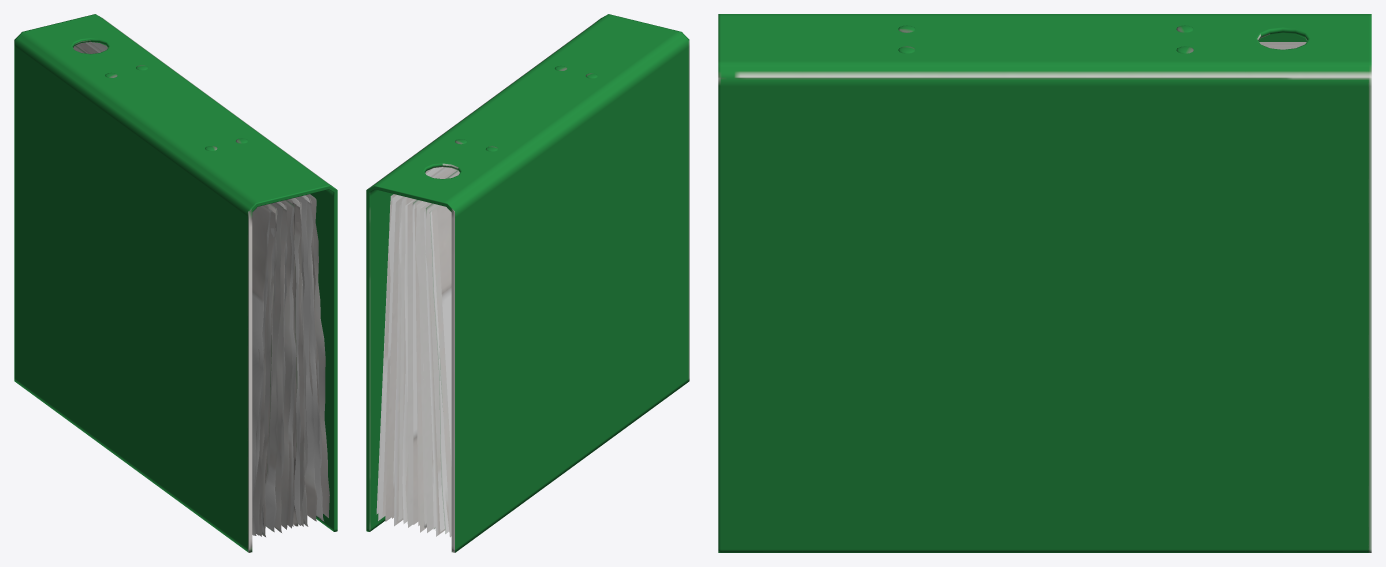
File: green_book.obj
The picture shows the model from 3 angles, left to right: view 1: azimuth 30°, elevation 25°; view 2: azimuth 150°, elevation 25°; view 3: azimuth 270°, elevation 25°; orthographic projection. The views are drawn at different scales.
Parts seen in each view (by area): view 1: green_book_Chocofur_Office_06.000, green_book_Chocofur_Office_06.002; view 2: green_book_Chocofur_Office_06.000, green_book_Chocofur_Office_06.002; view 3: green_book_Chocofur_Office_06.000.
Boxes of the visible parts, x1,y1,x2,y2 form: green_book_Chocofur_Office_06.000: (14,14,337,552); green_book_Chocofur_Office_06.002: (73,42,329,536); green_book_Chocofur_Office_06.000: (366,14,689,552); green_book_Chocofur_Office_06.002: (376,167,459,537); green_book_Chocofur_Office_06.000: (718,14,1371,552).
Size of the model in its own units: 0.0755 by 0.2833 by 0.3455.
Materials: 3 (3 with a texture image).
